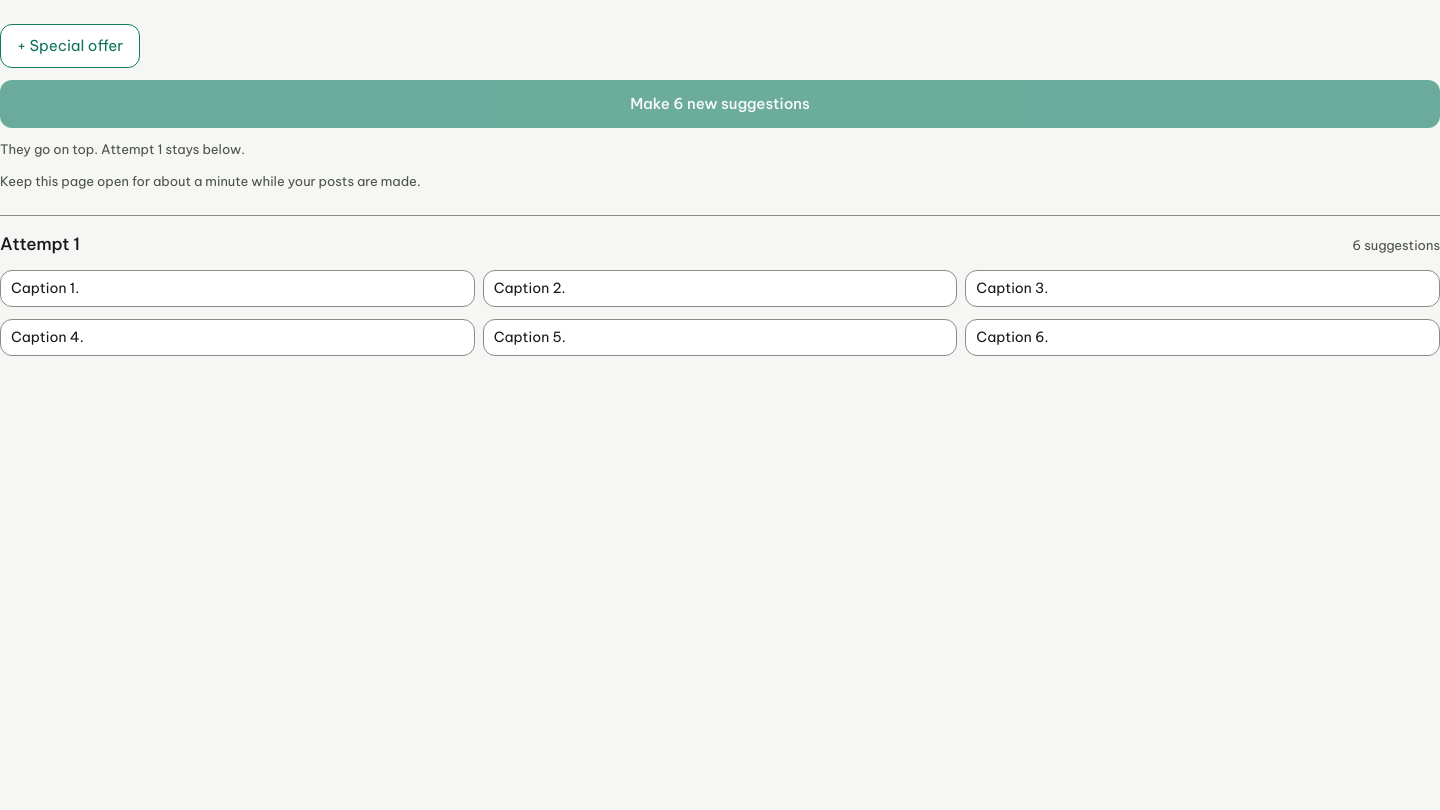
Test: captions follow the business by themselves › no stale line when only edited posts are out of date
Click the button "Caption 1.". click: (237, 288)
box: [0,270,475,307]
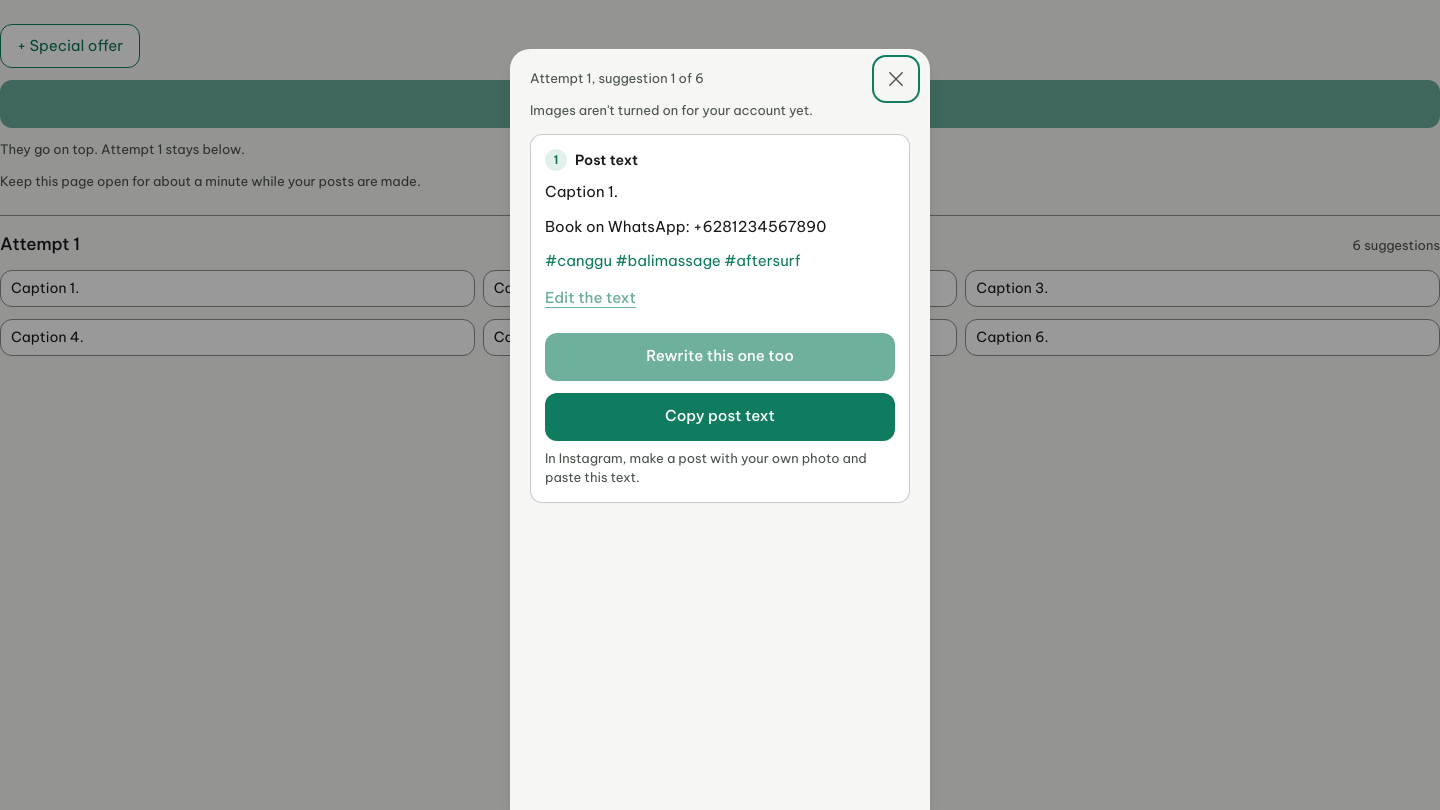
Check: the button "Rewrite this one too" is shown, box [545,333,895,381]
